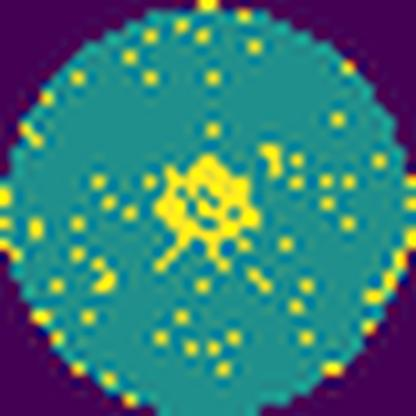Center: (151, 154, 263, 274)
